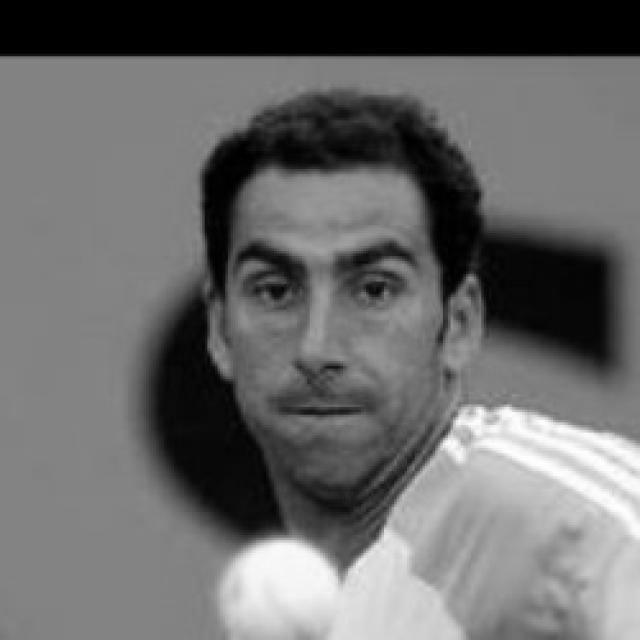real: (226, 158, 446, 489), (248, 263, 422, 322)
